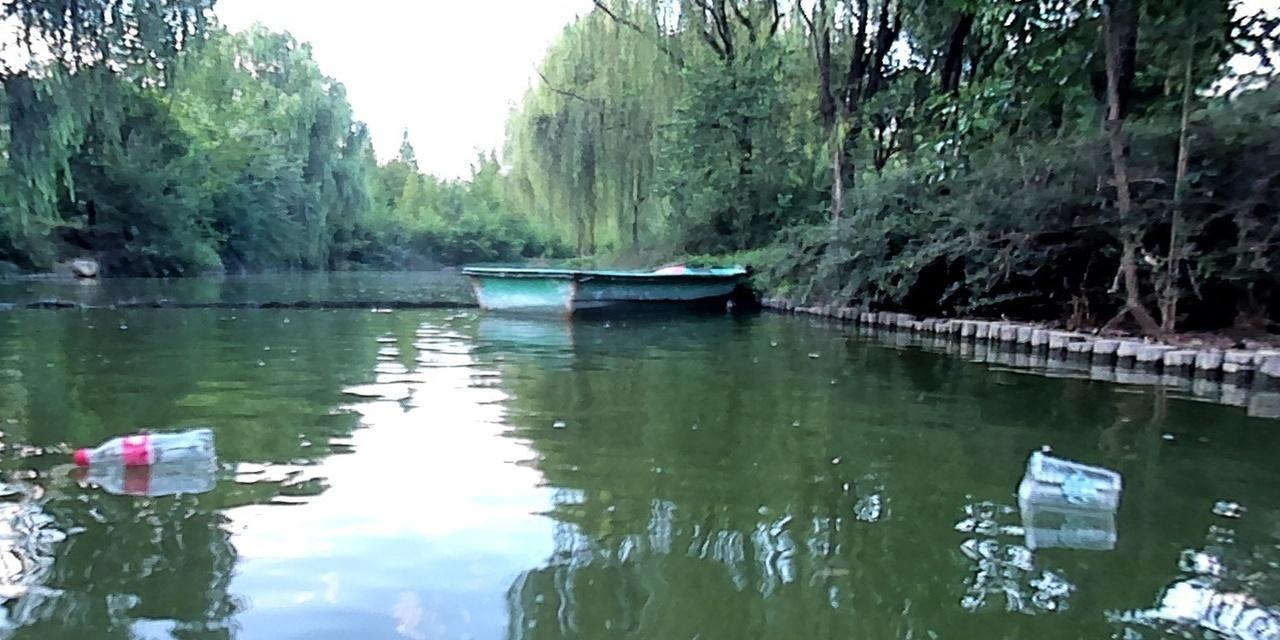bottle: (1012, 448, 1121, 512), (72, 425, 216, 467)
